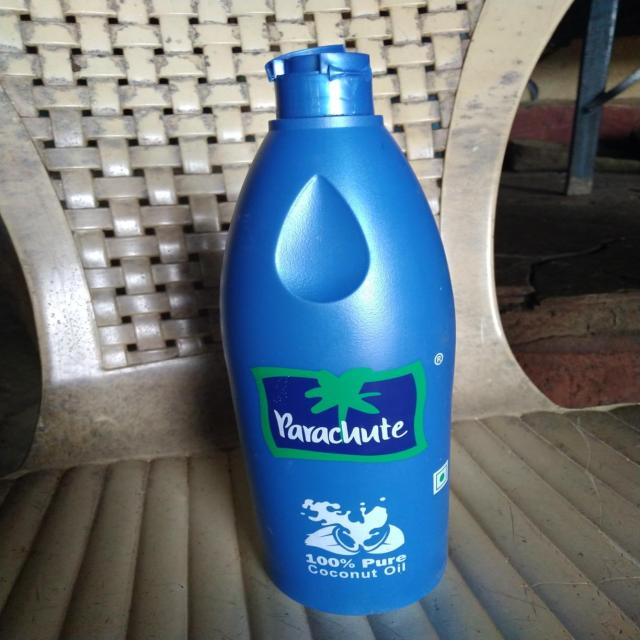parachute_oil: (215, 51, 475, 619)
